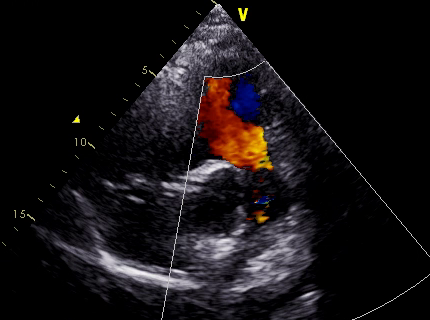PR: (211, 127, 274, 169)
